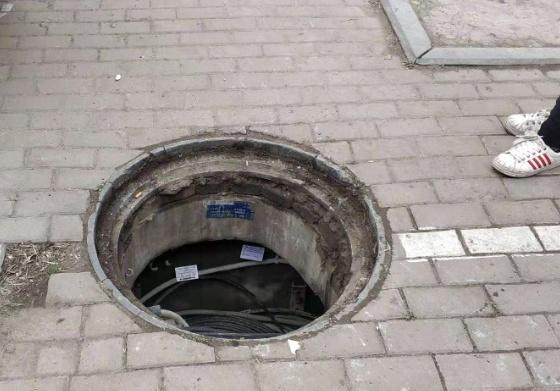wellcover: (71, 127, 401, 357)
